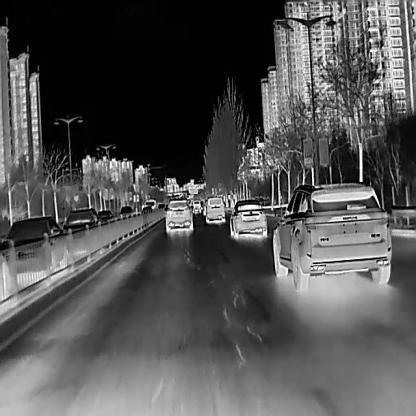car: (271, 180, 391, 292), (0, 214, 64, 270), (228, 197, 267, 238), (62, 206, 101, 245), (164, 198, 193, 234), (204, 196, 225, 223), (98, 206, 116, 230), (117, 206, 137, 221), (140, 205, 153, 217), (145, 199, 158, 211), (191, 200, 200, 212)
